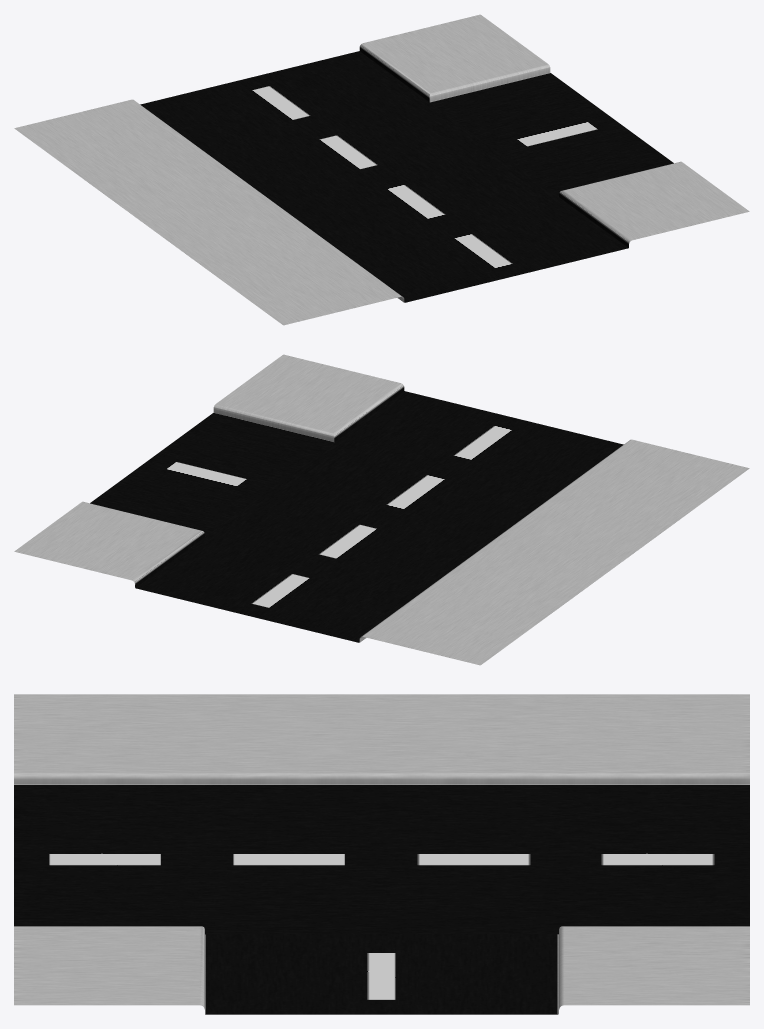
Rendered from Road_TeeIntersection.fbx.
3 renders of one model, top to bottom at view 1: azimuth 30°, elevation 25°; view 2: azimuth 150°, elevation 25°; view 3: azimuth 270°, elevation 25°, orthographic. The views are drawn at different scales.
Visible parts, largest first — view 1: TeeIntersection; view 2: TeeIntersection; view 3: TeeIntersection.
Part boxes in pixels (x1,y1,x2,y2): TeeIntersection: (14,14,749,325); TeeIntersection: (14,354,749,665); TeeIntersection: (14,694,749,1014).
Size of the model in its own units: 69.5 by 1 by 69.5.
Materials: 1 (1 with a texture image).
